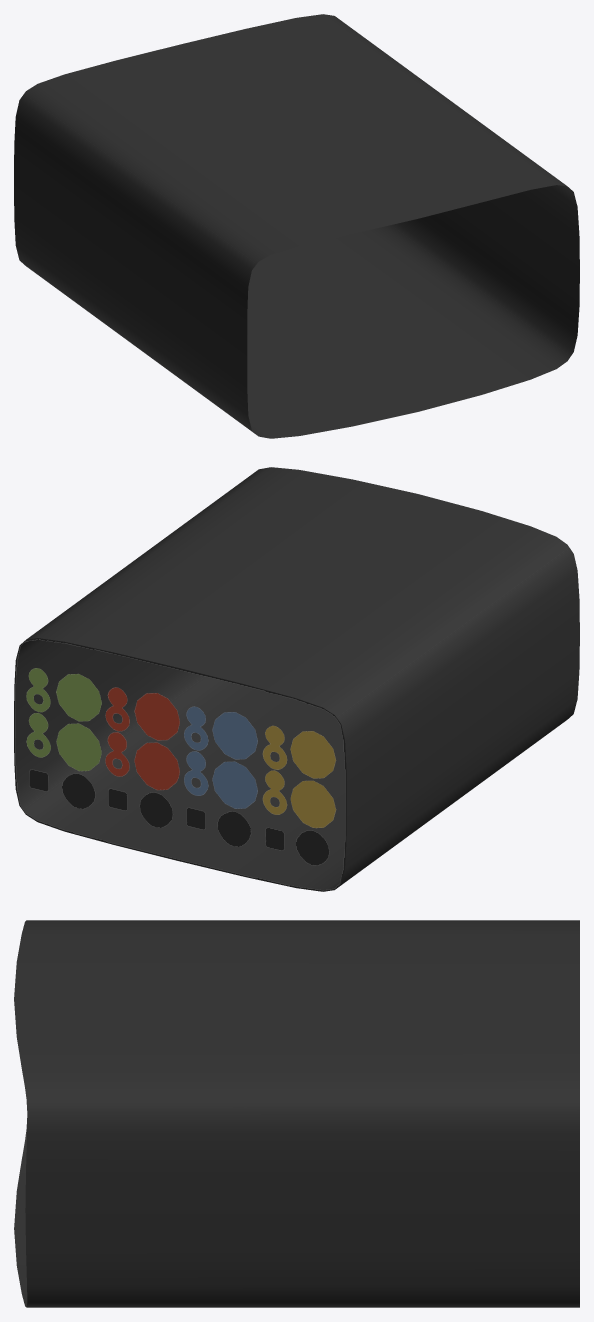
The model's file is IVGD Arcade Tube long.fbx.
The picture shows the model from 3 angles, top to bottom: view 1: azimuth 30°, elevation 25°; view 2: azimuth 150°, elevation 25°; view 3: azimuth 270°, elevation 25°; orthographic projection. The views are drawn at different scales.
Visible parts, largest first — view 1: IVGD Arcade Tube; view 2: IVGD Arcade Tube; view 3: IVGD Arcade Tube.
Boxes of the visible parts, left/top/right/bottom form: IVGD Arcade Tube: left=14, top=14, right=579, bottom=438; IVGD Arcade Tube: left=14, top=467, right=579, bottom=891; IVGD Arcade Tube: left=14, top=920, right=579, bottom=1307.
Bounding box in the file's own units: 92.69 × 51.43 × 115.
